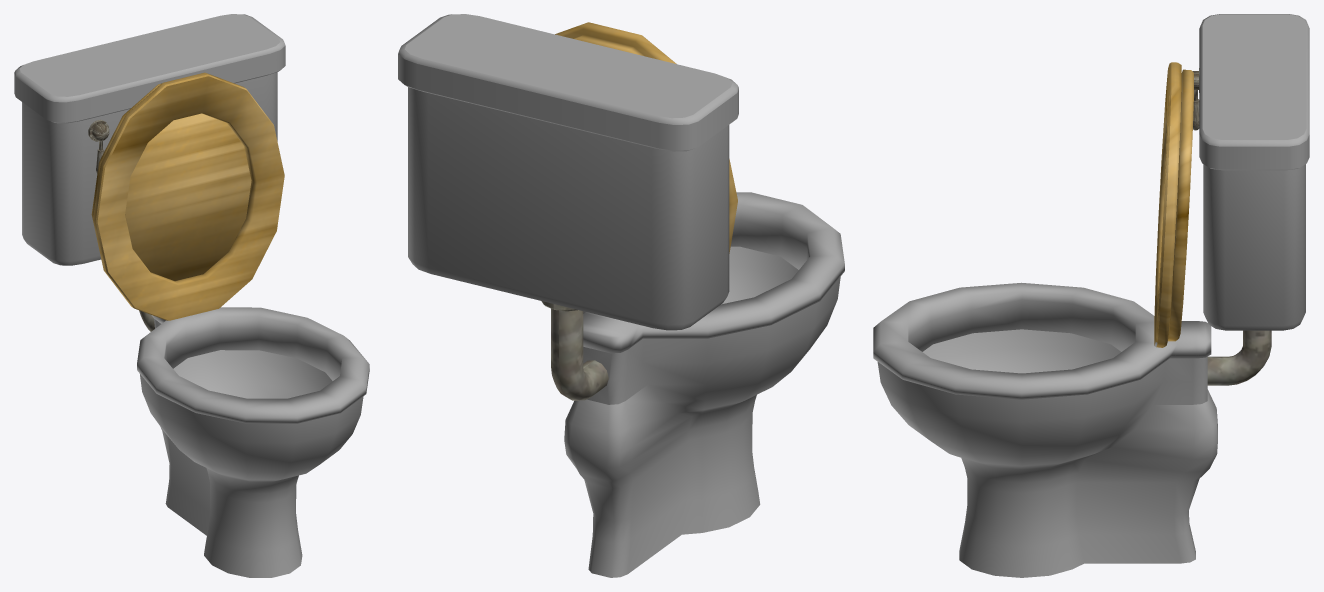
Rendered from Bathroom_Toilet.fbx.
3 renders of one model, left to right at view 1: azimuth 30°, elevation 25°; view 2: azimuth 150°, elevation 25°; view 3: azimuth 270°, elevation 25°, orthographic. The views are drawn at different scales.
Visible parts, largest first — view 1: ToiletUVd:polySurface88; view 2: ToiletUVd:polySurface88; view 3: ToiletUVd:polySurface88.
Boxes of the visible parts, x1,y1,x2,y2 form: ToiletUVd:polySurface88: (14, 14, 369, 577); ToiletUVd:polySurface88: (398, 14, 844, 577); ToiletUVd:polySurface88: (873, 14, 1309, 577).
Bounding box in the file's own units: 1.11 × 1.9 × 1.56.
